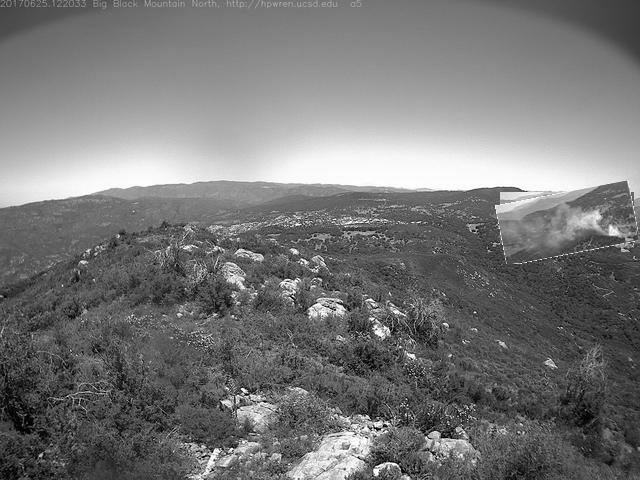smoke: (499, 187, 638, 260)
